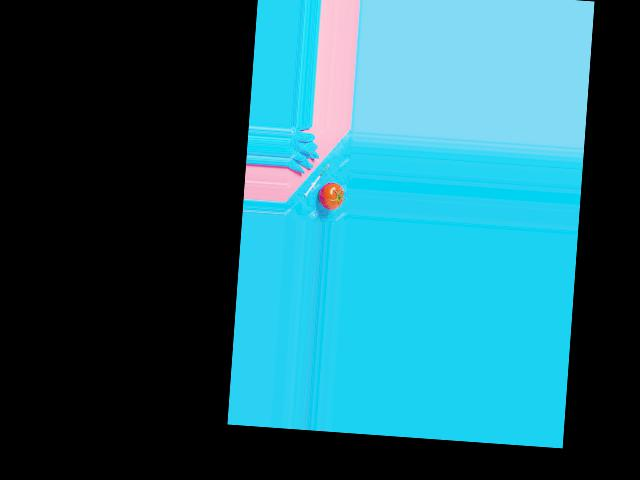tomato: (317, 181, 344, 209)
